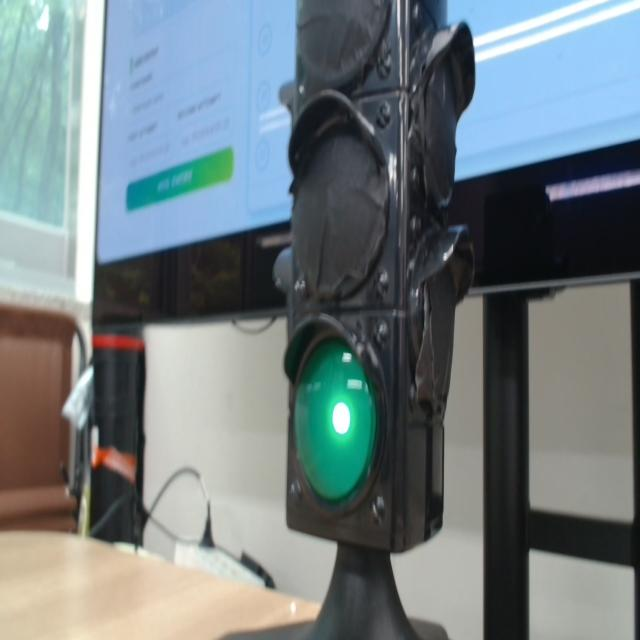green_light: (294, 339, 376, 501), (332, 402, 350, 434)
